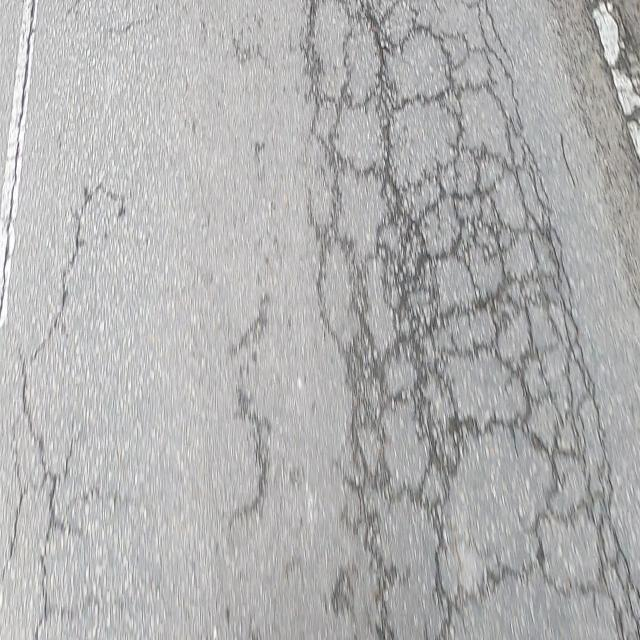Retak-Buaya: (302, 0, 640, 640)
Retak-Memanjang: (20, 175, 99, 639)
